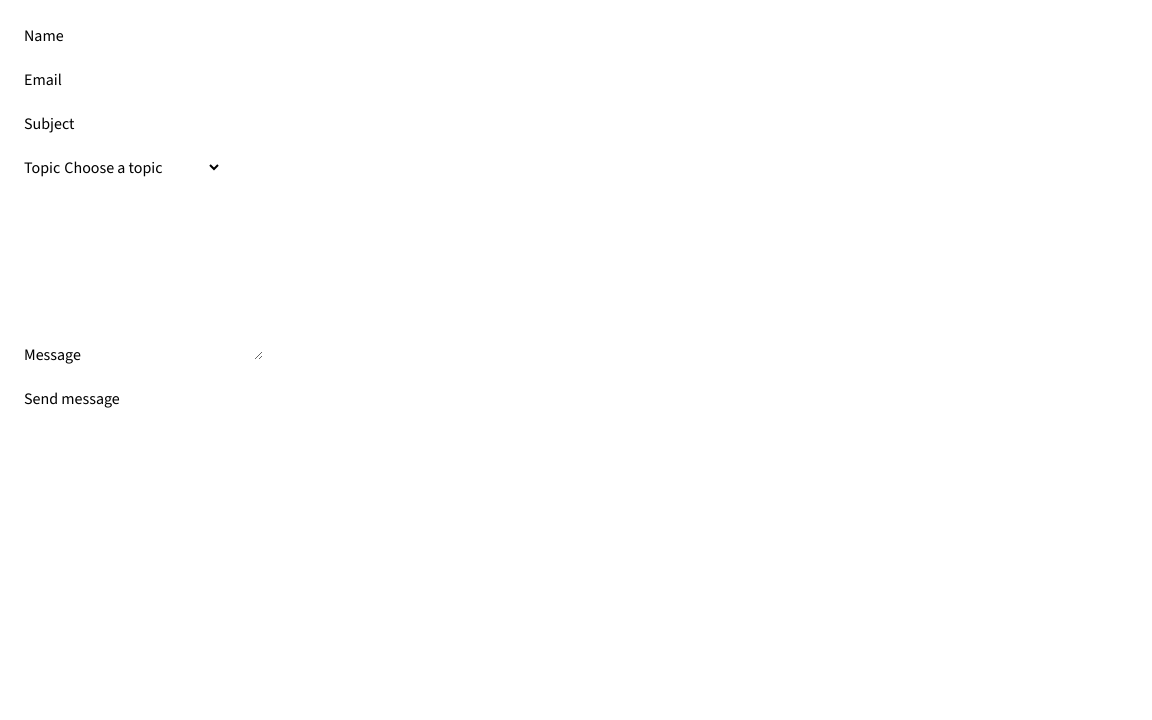
Scenario: ContactForm › submits a valid message without turnstile
Type "Tester" into the field labelled "Name" at x=157, y=36, box [64,24,250,48]
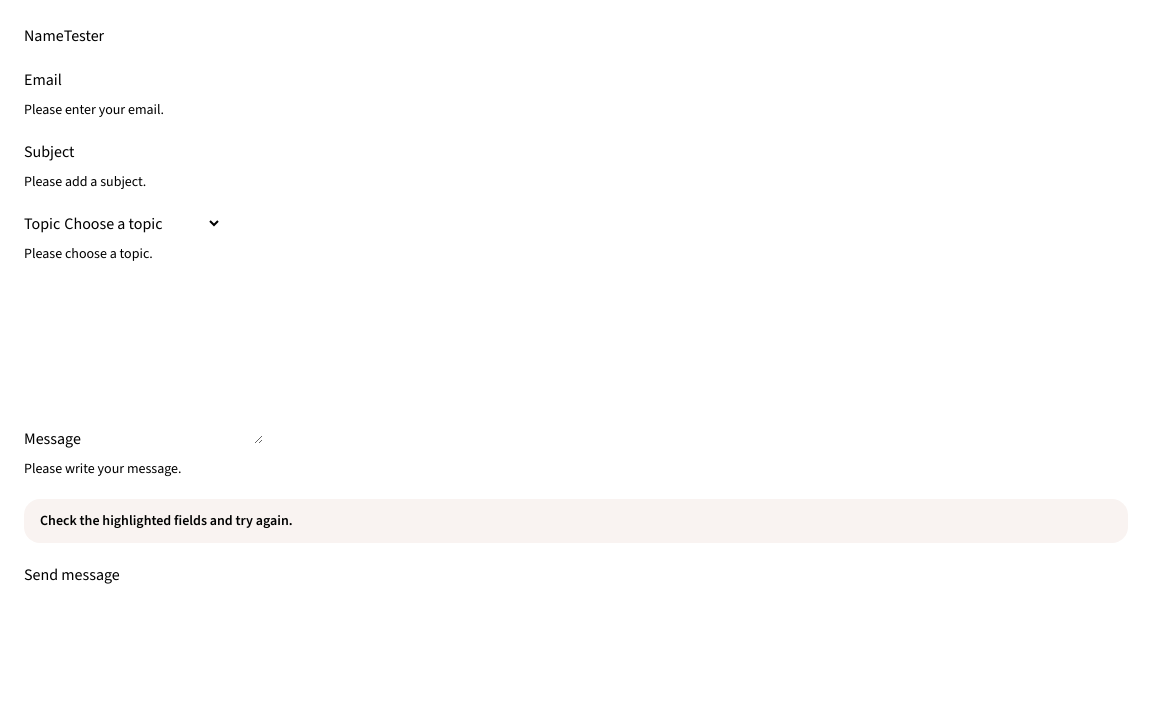
Type "tester@example.com" into the field labelled "Email" at x=155, y=80, box [62,68,248,92]
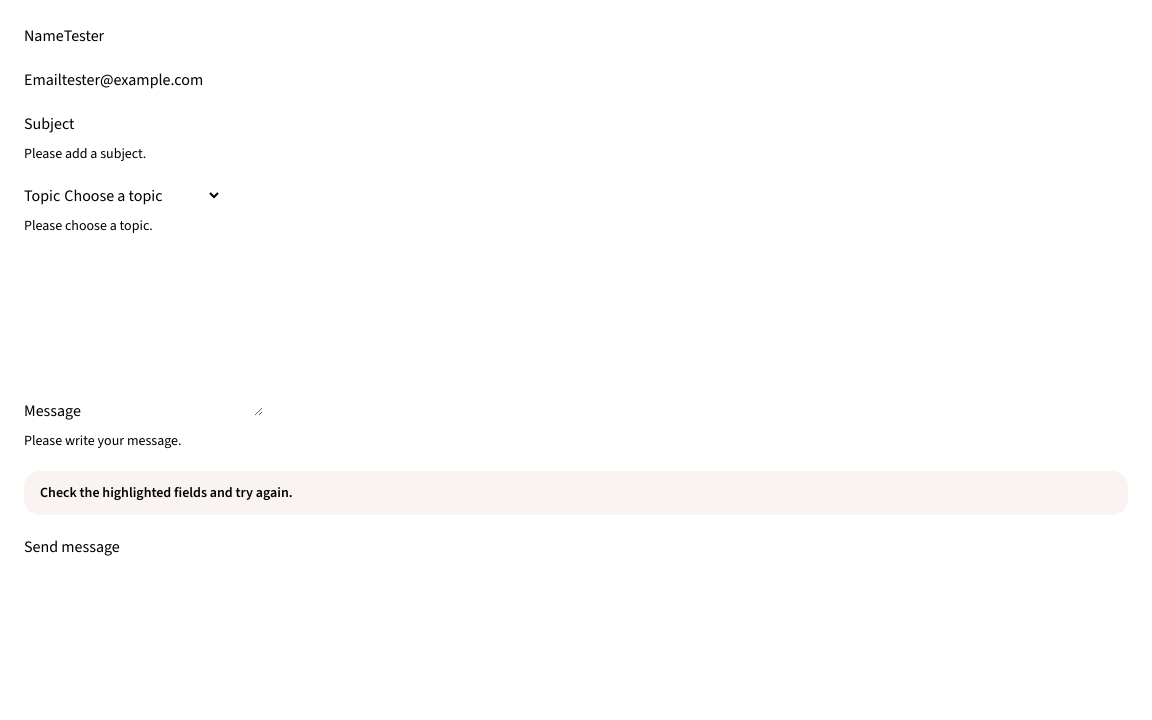
Type "Help needed" into the field labelled "Subject" at x=168, y=124, box [74,112,260,136]
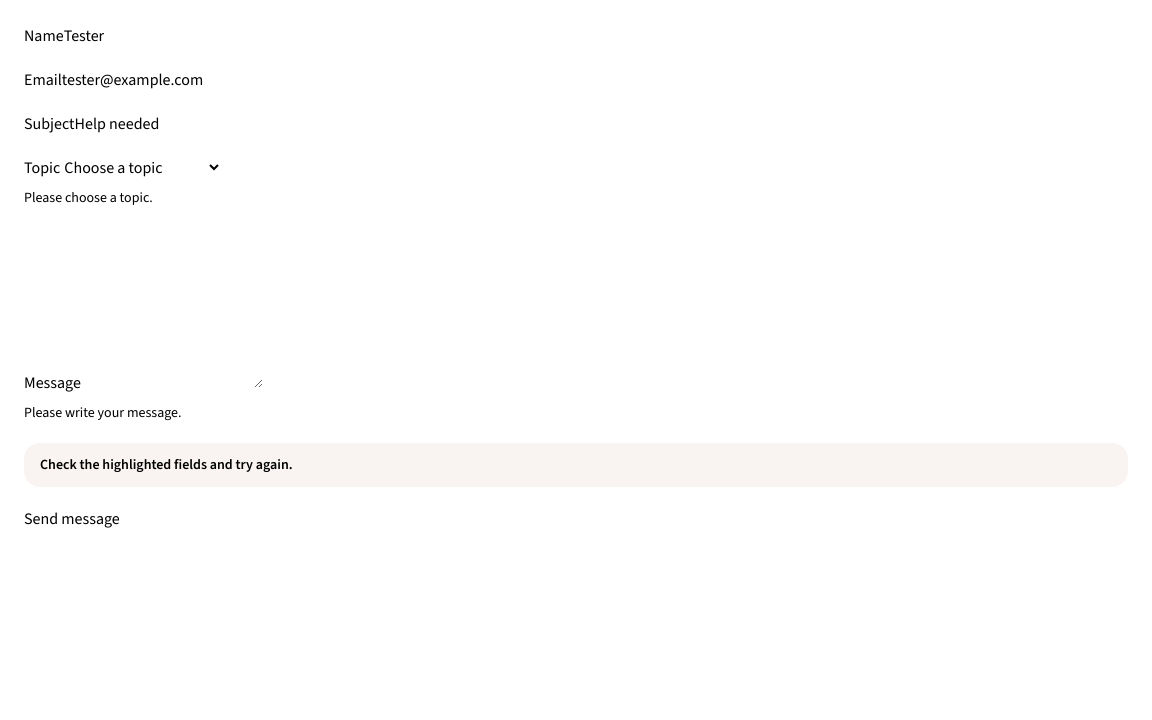
Select "General enquiry" in the dropdown labelled "Topic" at x=141, y=168, box [60,156,222,179]
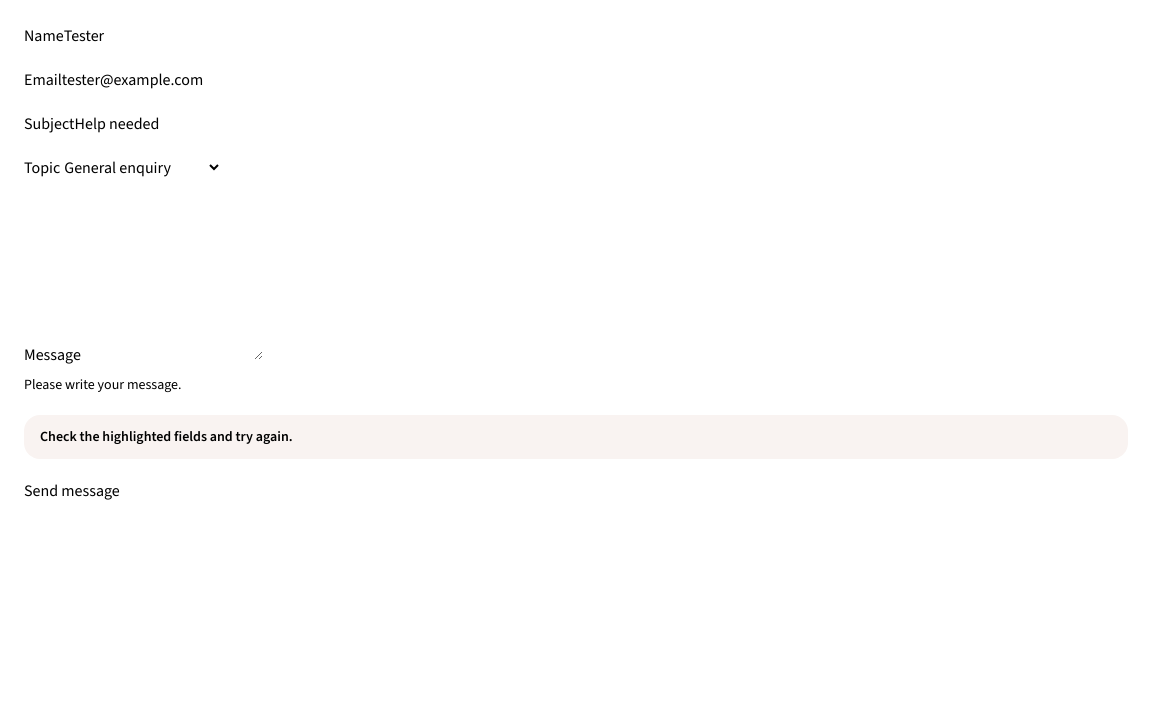
Type "This is a detailed message with enough content." into the text box labelled "Message" at x=172, y=280, box [81,200,263,360]
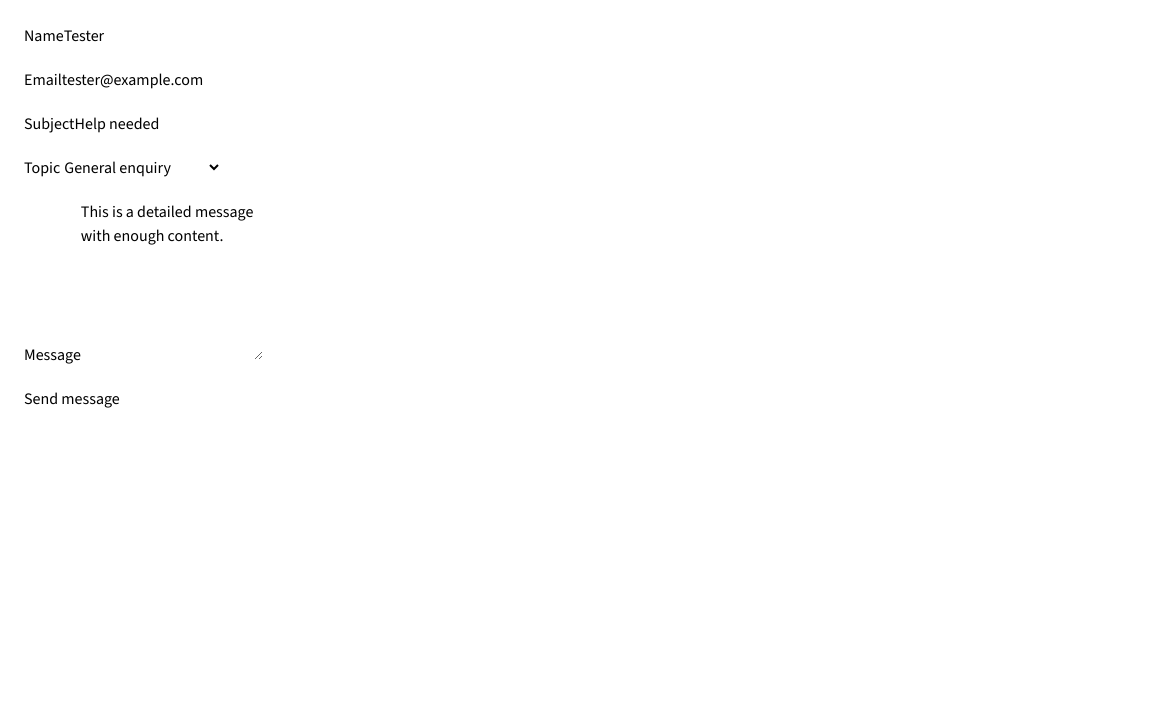
Click the button "Send message" at x=72, y=399, box [24,387,120,411]
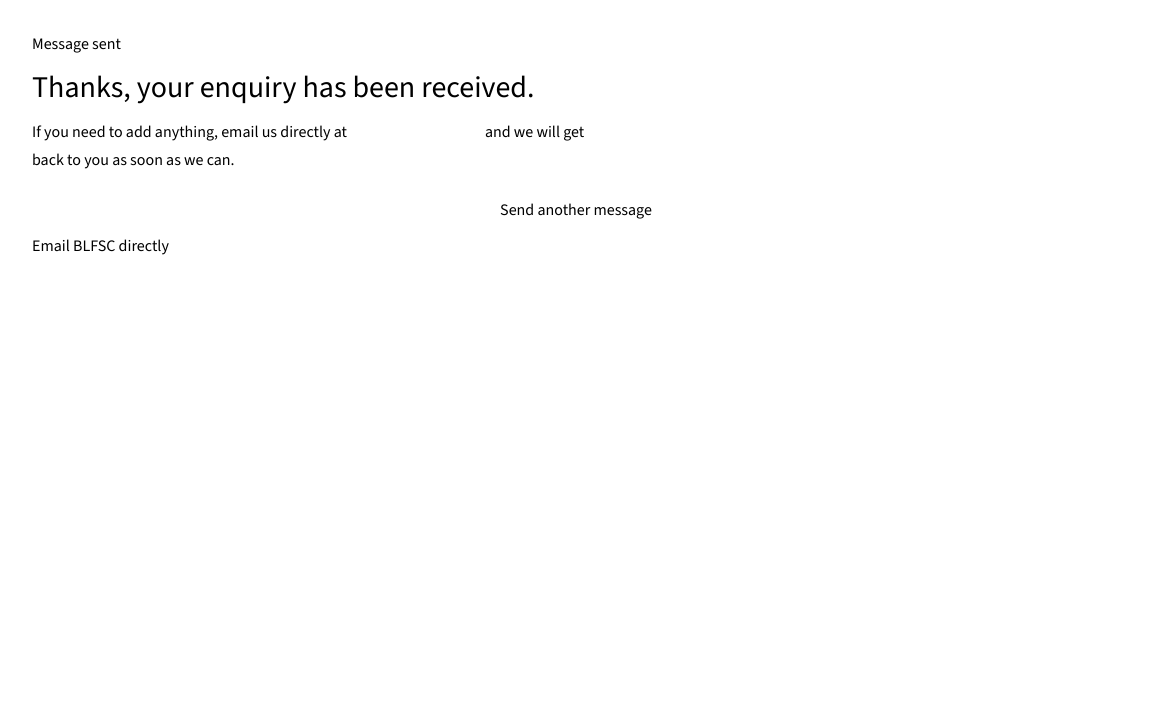
Expected: the heading "Thanks, your enquiry has been received." is shown, [32,67,534,107]
